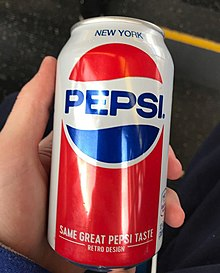pepsi: (63, 39, 162, 163)
